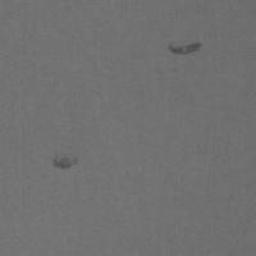Inclusion: (168, 41, 204, 56), (51, 152, 79, 170)
